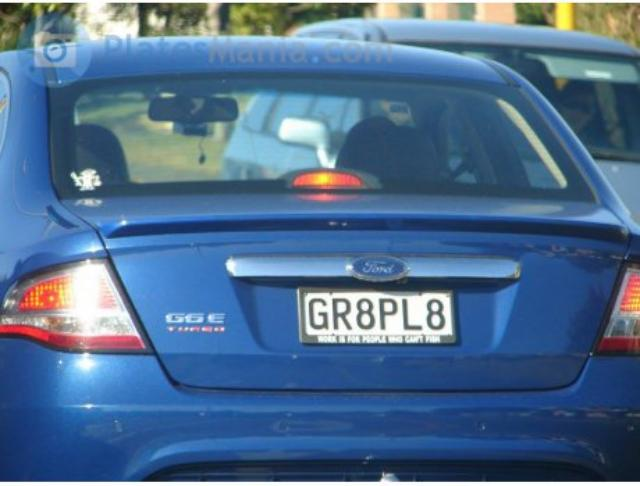Rego: (301, 289, 456, 344)
